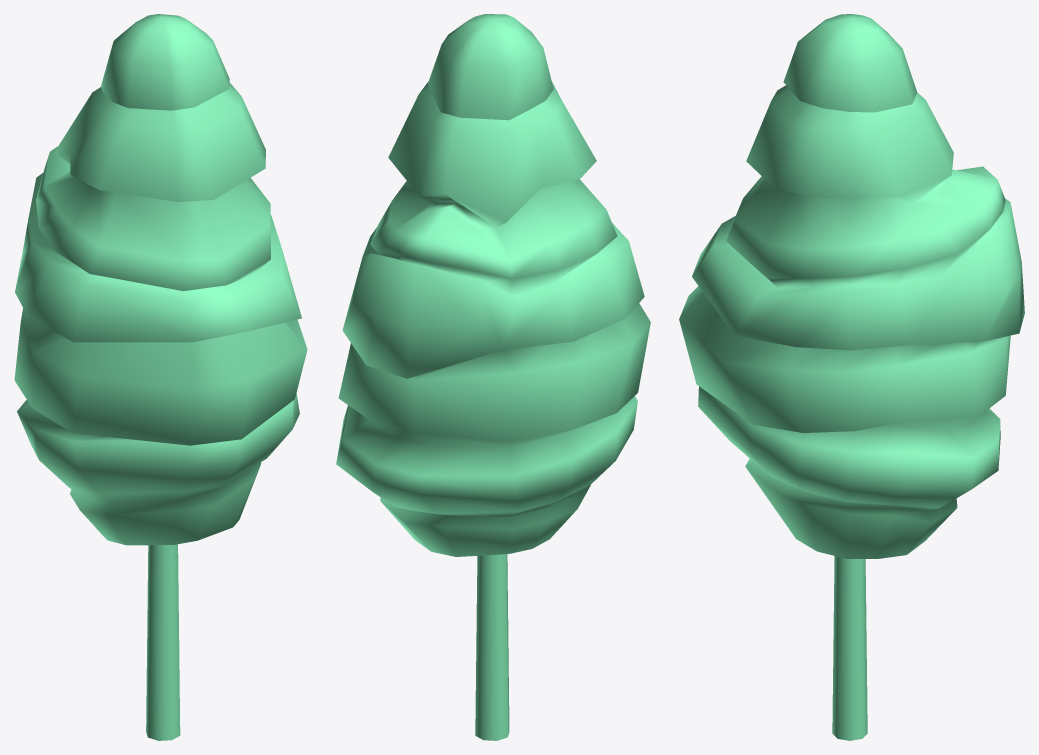
Rendered from TreeA2.fbx.
3 views of the same model, side by side, from view 1: azimuth 30°, elevation 25°; view 2: azimuth 150°, elevation 25°; view 3: azimuth 270°, elevation 25° (orthographic).
Parts seen in each view (by area): view 1: Tree_A2; view 2: Tree_A2; view 3: Tree_A2.
Boxes of the visible parts, x1=… form: Tree_A2: x1=14, y1=14, x2=307, y2=740; Tree_A2: x1=336, y1=14, x2=650, y2=740; Tree_A2: x1=679, y1=14, x2=1024, y2=740.
Bounding box in the file's own units: 115 × 307 × 135.
